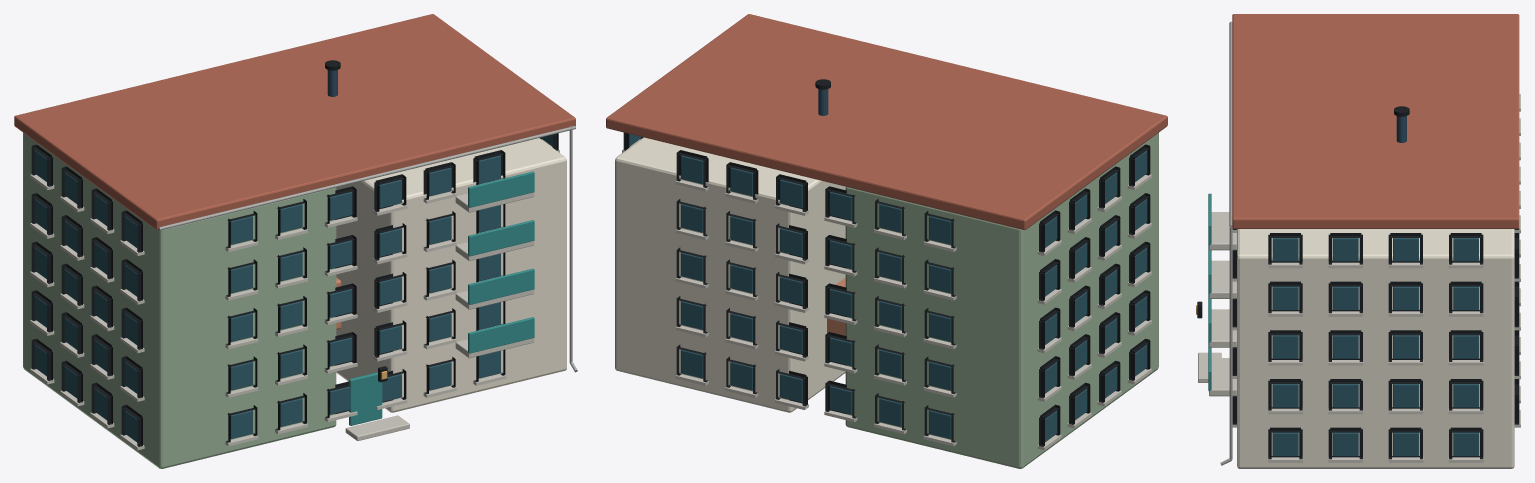
File: RES_MID_3x2_006.glb
3 renders of one model, left to right at view 1: azimuth 30°, elevation 25°; view 2: azimuth 150°, elevation 25°; view 3: azimuth 270°, elevation 25°, orthographic.
Visible parts, largest first — view 1: RES_MID_3x2_006_Visual; view 2: RES_MID_3x2_006_Visual; view 3: RES_MID_3x2_006_Visual.
Boxes of the visible parts, x1,y1,x2,y2 form: RES_MID_3x2_006_Visual: (14, 14, 577, 468); RES_MID_3x2_006_Visual: (606, 14, 1167, 468); RES_MID_3x2_006_Visual: (1196, 14, 1520, 468).
Size of what is drawn, in the model's own units: 5.28 by 3.4 by 3.51.
